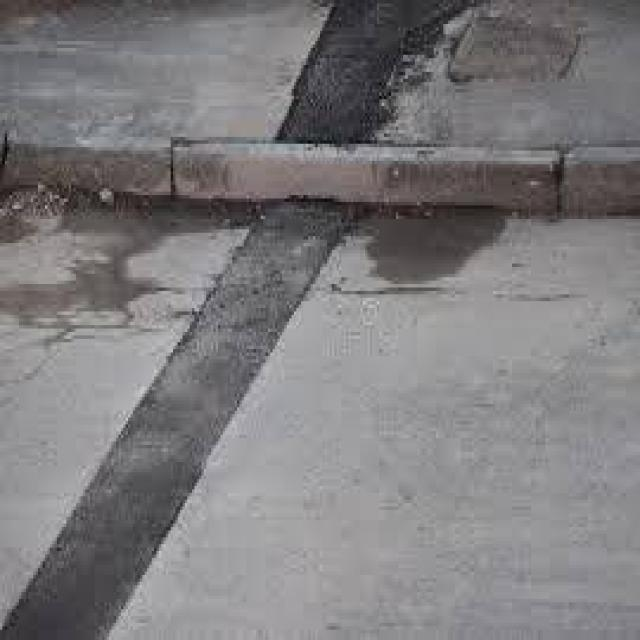curb: (1, 126, 640, 217)
